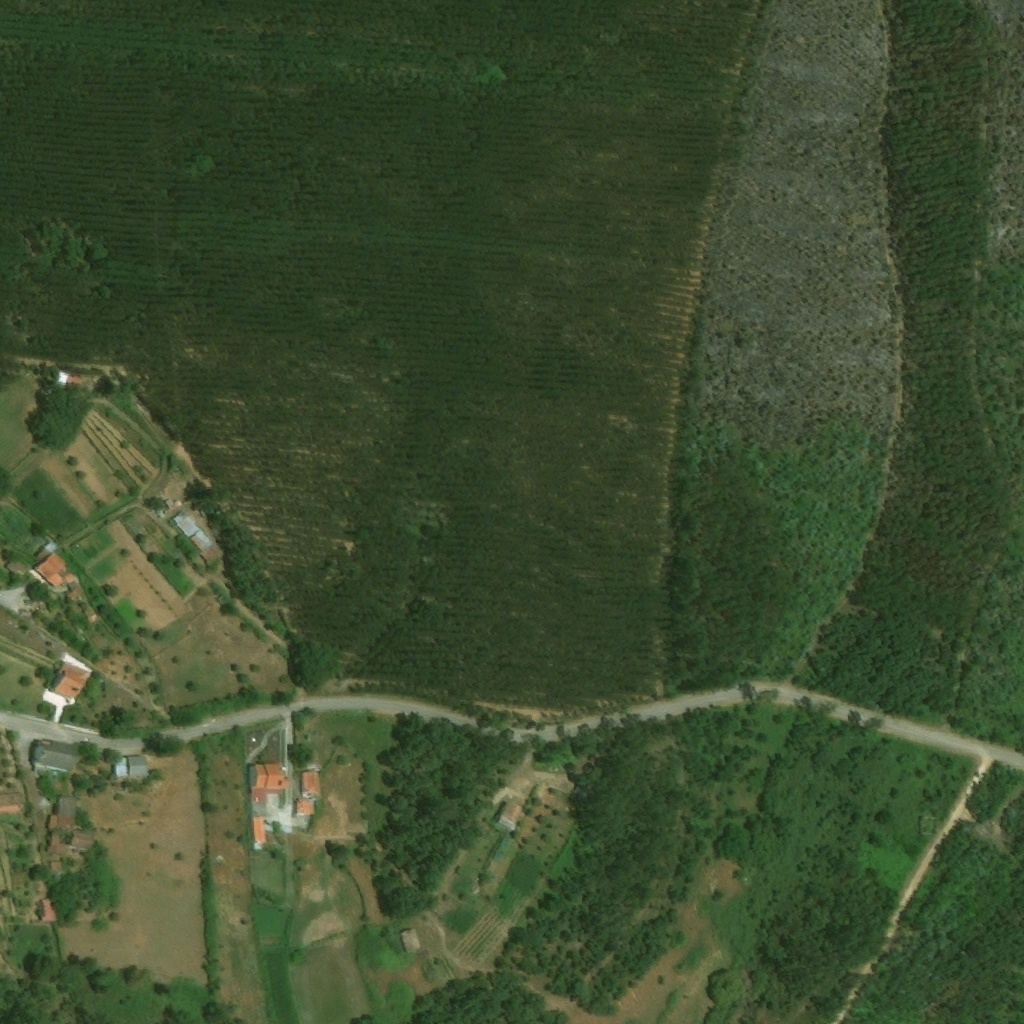0 no-damage: (29, 538, 89, 603), (249, 759, 291, 850), (170, 510, 224, 561), (46, 831, 94, 878), (30, 738, 81, 772), (50, 660, 92, 700), (491, 790, 526, 828), (46, 793, 81, 830), (395, 925, 426, 957), (111, 754, 150, 778), (0, 792, 26, 815), (4, 556, 31, 578), (53, 370, 85, 388), (34, 898, 56, 924), (301, 769, 320, 793), (295, 798, 316, 815)
